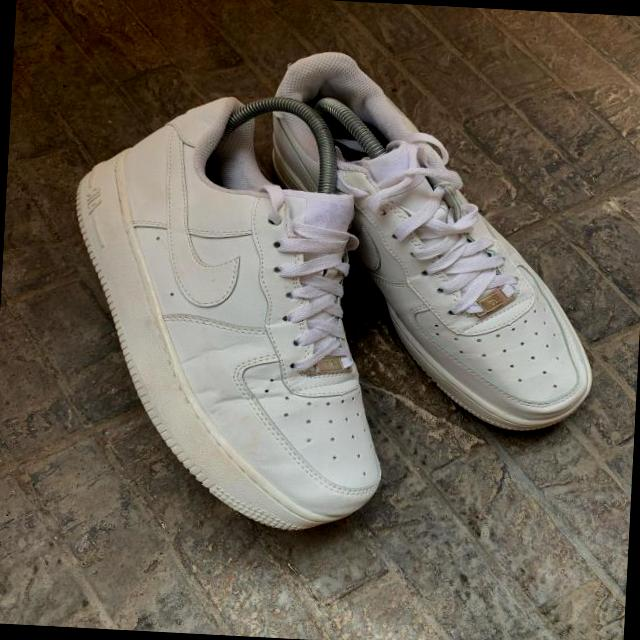nike_fake_airforce: (47, 90, 406, 546), (253, 51, 610, 442)
